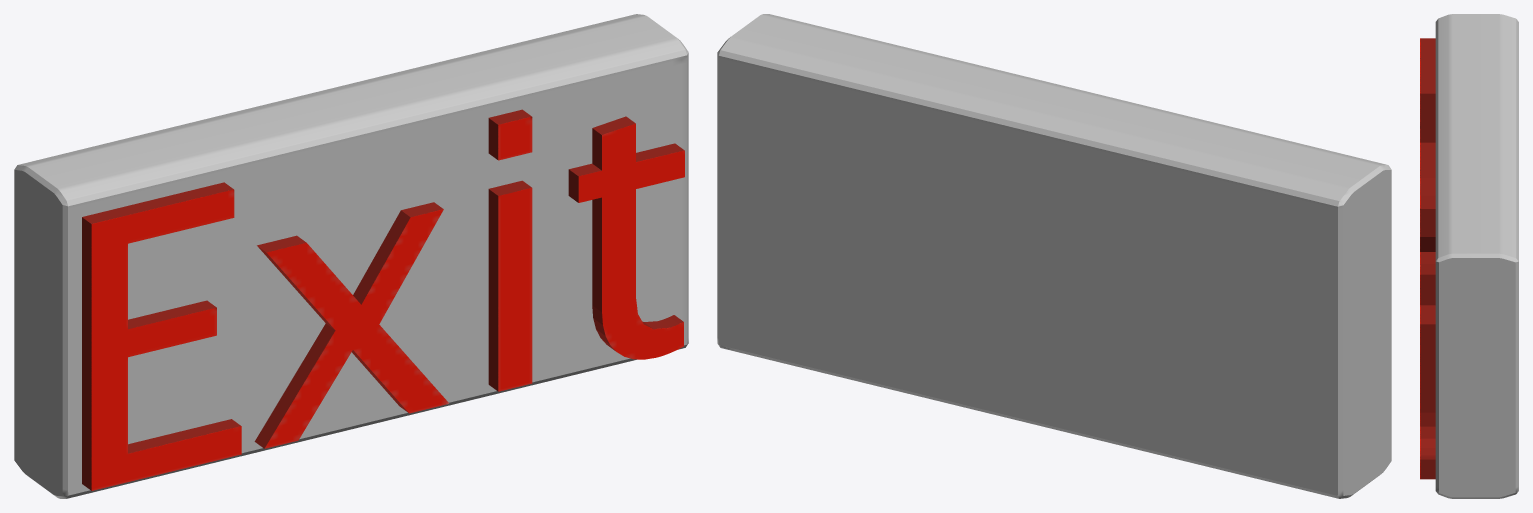
File: Exitsign.obj
3 views of the same model, side by side, from view 1: azimuth 30°, elevation 25°; view 2: azimuth 150°, elevation 25°; view 3: azimuth 270°, elevation 25° (orthographic). The views are drawn at different scales.
Parts seen in each view (by area): view 1: typeMesh2; view 2: typeMesh2; view 3: typeMesh2.
Part boxes in pixels (x1,y1,x2,y2): typeMesh2: [14, 14, 688, 498]; typeMesh2: [717, 14, 1391, 498]; typeMesh2: [1420, 14, 1518, 498].
Size of the model in its own units: 120 by 56.75 by 20.7.
Materials: 1 (1 with a texture image).
